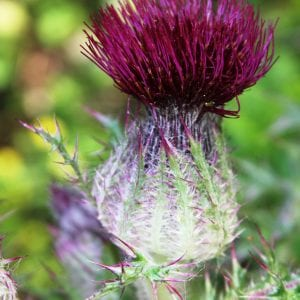thistle: (81, 2, 276, 277)
